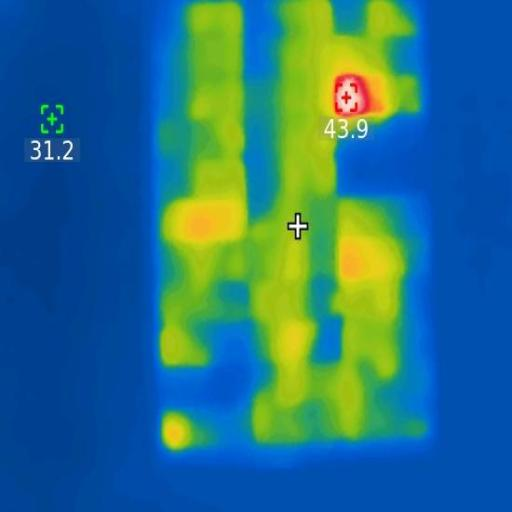hotspot: (332, 78, 371, 124)
